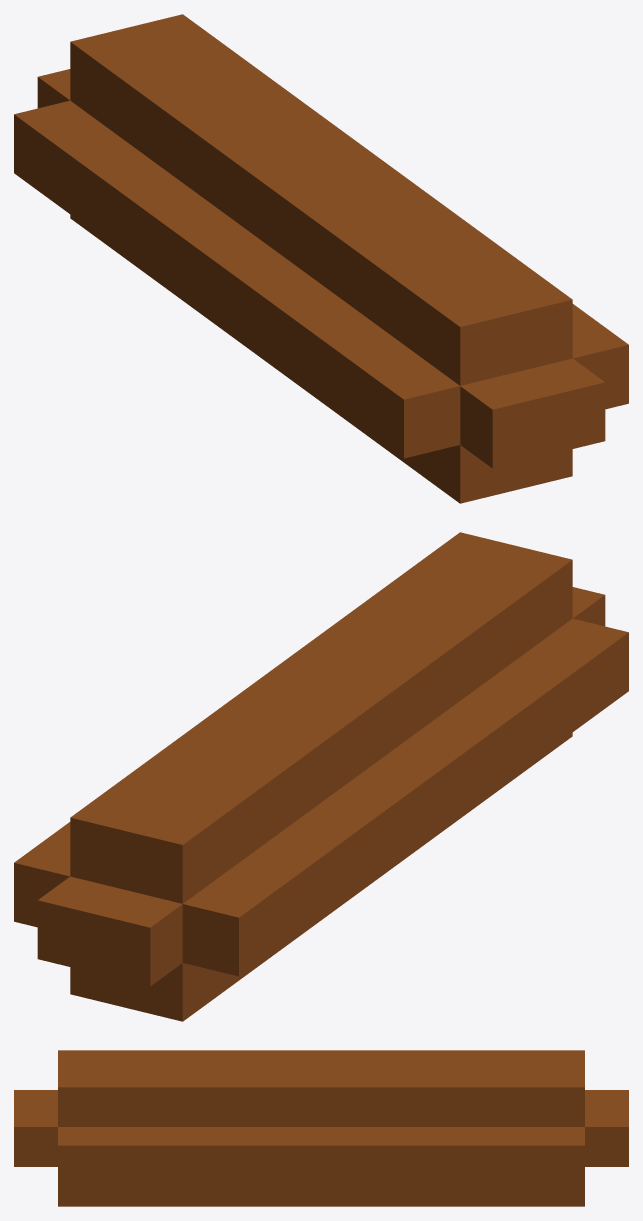
Rendered from Tinder_Fire.obj.
The picture shows the model from 3 angles, top to bottom: view 1: azimuth 30°, elevation 25°; view 2: azimuth 150°, elevation 25°; view 3: azimuth 270°, elevation 25°; orthographic projection. The views are drawn at different scales.
Size of the model in its own units: 0.4 by 0.3 by 1.4.
Materials: 1 (1 with a texture image).
